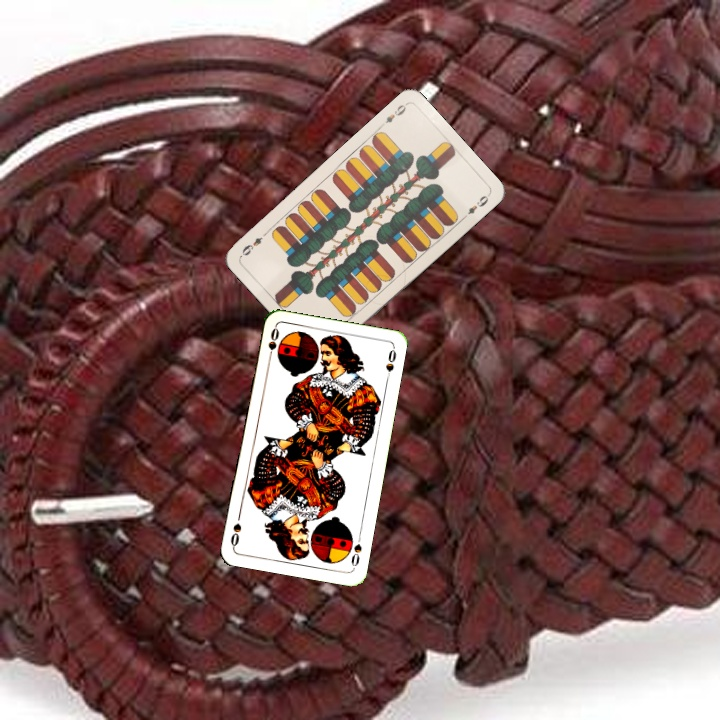E9: (376, 100, 409, 130)
SO: (264, 324, 282, 364), (347, 530, 364, 571)
